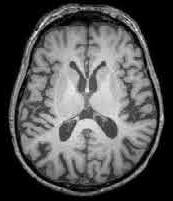Normal_Brain: (6, 6, 173, 201)
